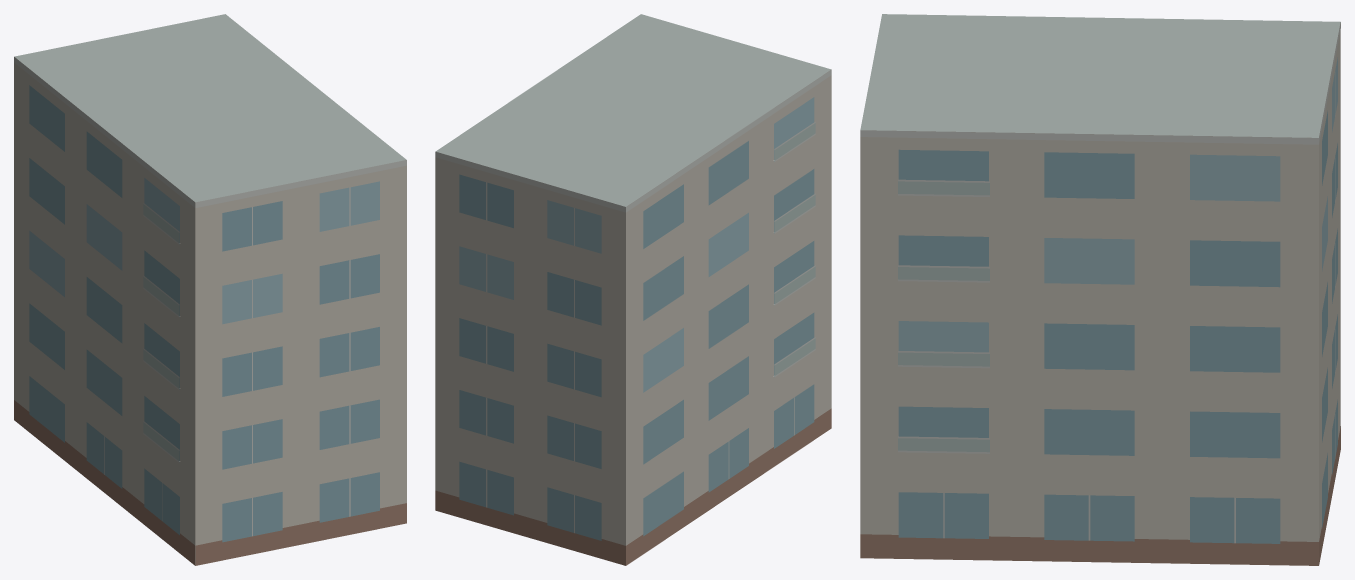
The model's file is survey-upis-33013126.glb.
3 views of the same model, side by side, from view 1: azimuth 30°, elevation 25°; view 2: azimuth 150°, elevation 25°; view 3: azimuth 270°, elevation 25° (orthographic). The views are drawn at different scales.
Parts seen in each view (by area): view 1: survey-upis-33013126.tmp; view 2: survey-upis-33013126.tmp; view 3: survey-upis-33013126.tmp.
Boxes of the visible parts, x1=… form: survey-upis-33013126.tmp: x1=14, y1=14, x2=406, y2=565; survey-upis-33013126.tmp: x1=435, y1=14, x2=831, y2=565; survey-upis-33013126.tmp: x1=860, y1=14, x2=1340, y2=565.
Bounding box in the file's own units: 9.48 × 15.25 × 15.52.
